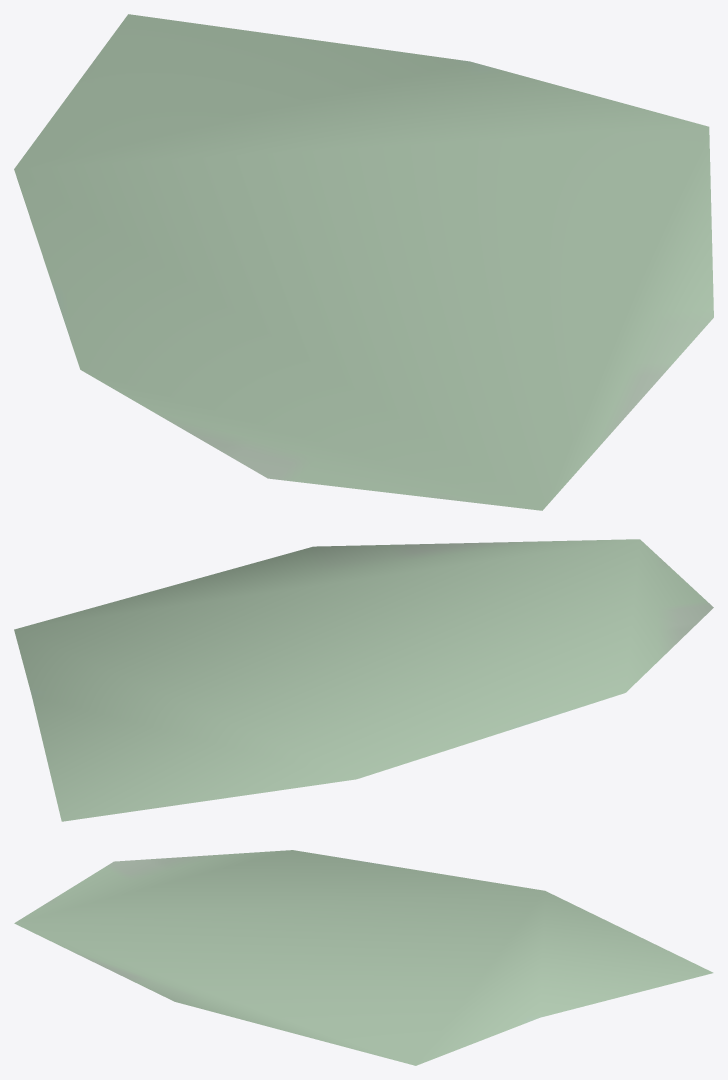
Rendered from TROLLHOLE02_HOLECAP147.fbx.
3 renders of one model, top to bottom at view 1: azimuth 30°, elevation 25°; view 2: azimuth 150°, elevation 25°; view 3: azimuth 270°, elevation 25°, orthographic. The views are drawn at different scales.
Parts seen in each view (by area): view 1: TROLLHOLE02_HOLECAP147; view 2: TROLLHOLE02_HOLECAP147; view 3: TROLLHOLE02_HOLECAP147.
Boxes of the visible parts, x1=… form: TROLLHOLE02_HOLECAP147: x1=14, y1=14, x2=713, y2=510; TROLLHOLE02_HOLECAP147: x1=14, y1=539, x2=713, y2=821; TROLLHOLE02_HOLECAP147: x1=14, y1=850, x2=713, y2=1065.
Size of the model in its own units: 35108 by 1064 by 50024.
1 material, 1 textured.
